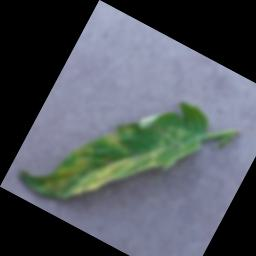Leaf_Mold: (13, 85, 192, 251)
